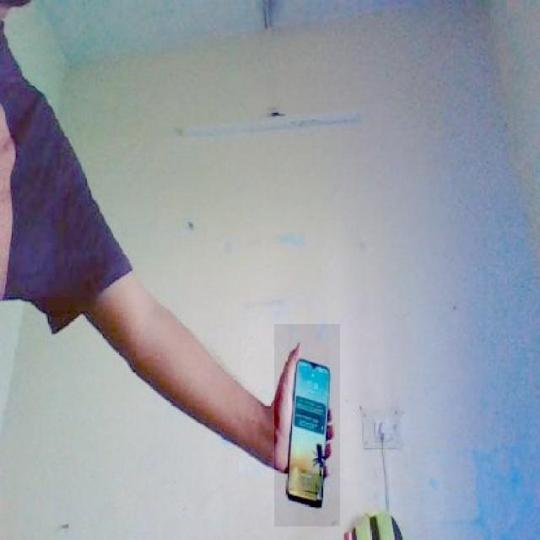phone: (279, 348, 334, 508)
